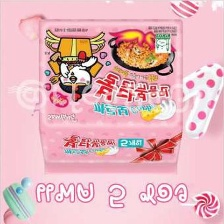snack: (27, 14, 191, 179)
